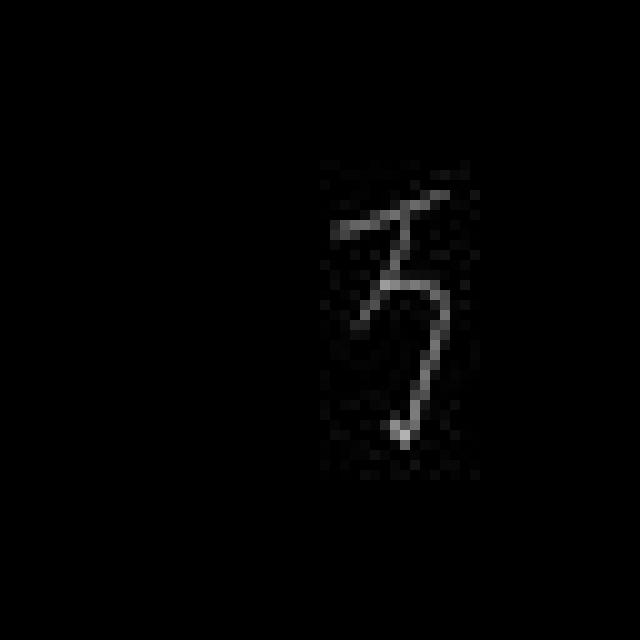10000 -a ten thousand-: (318, 170, 460, 460)
